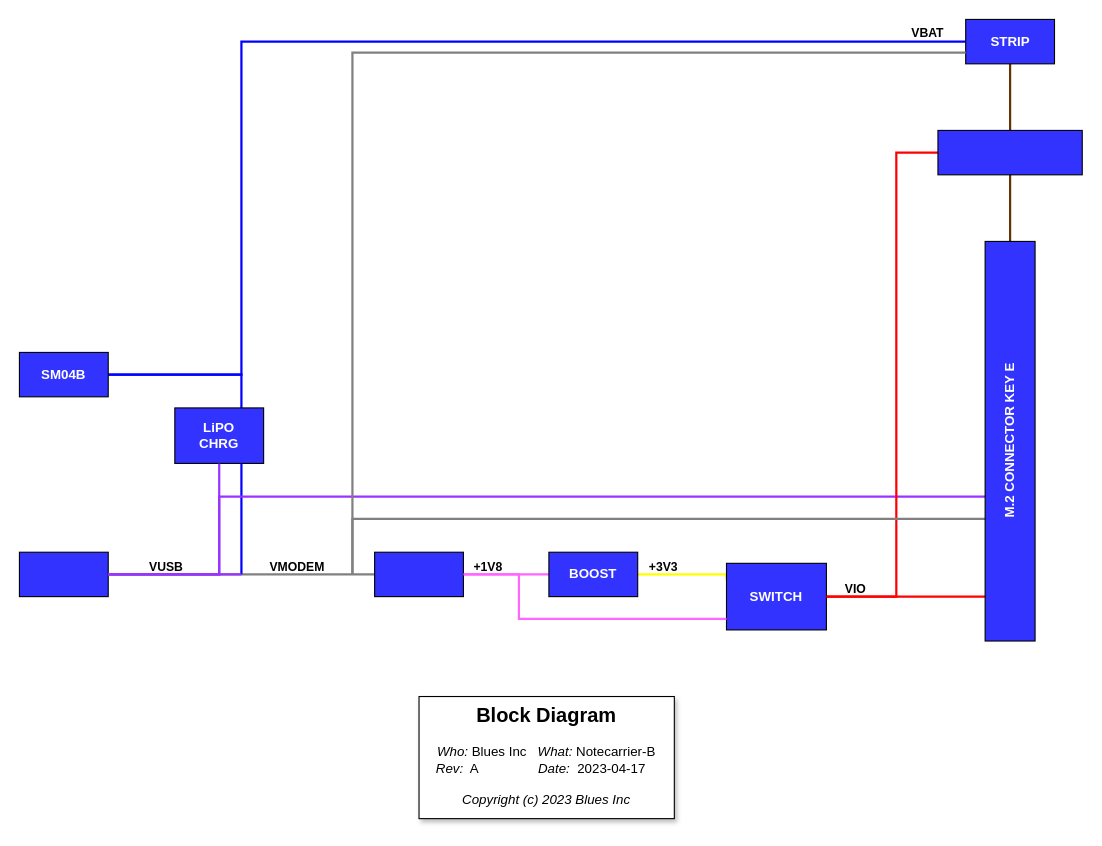
This 1102x846 diagram has some shape labels left out. The shapes that lost their labels are listed below. From the top down, each one's centre as x and y in pixels, then its label:
At (x=1009, y=152): "PROTECTION NET".
At (x=63, y=574): "uUSB".
At (x=418, y=574): "BUCK".
